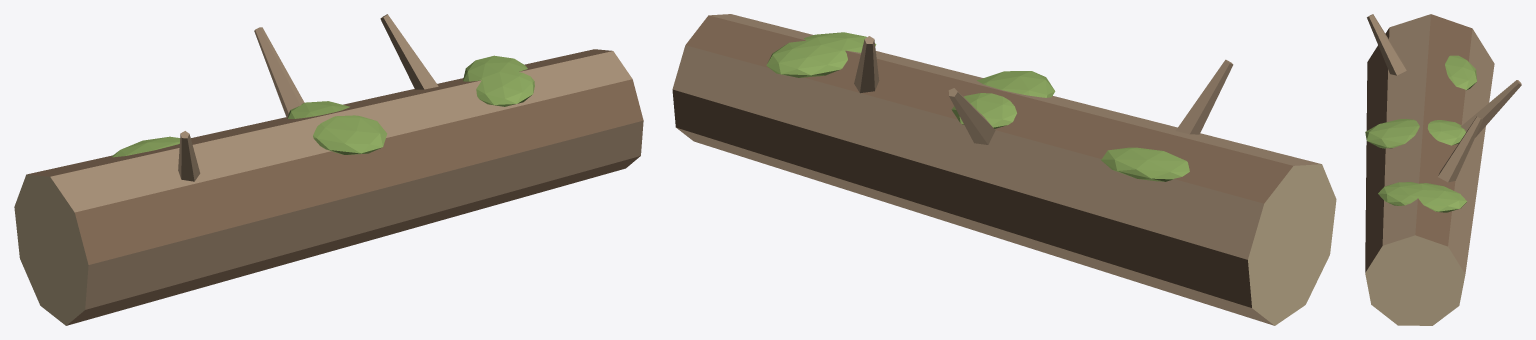
File: fallen_log.glb
The picture shows the model from 3 angles, left to right: view 1: azimuth 30°, elevation 25°; view 2: azimuth 150°, elevation 25°; view 3: azimuth 270°, elevation 25°; orthographic projection. The views are drawn at different scales.
Visible parts, largest first — view 1: fallen_log; view 2: fallen_log; view 3: fallen_log.
Boxes of the visible parts, x1=… form: fallen_log: x1=14, y1=14, x2=643, y2=325; fallen_log: x1=672, y1=14, x2=1336, y2=325; fallen_log: x1=1365, y1=14, x2=1521, y2=325.
Size of the model in its own units: 2.67 by 0.879 by 0.7996.
